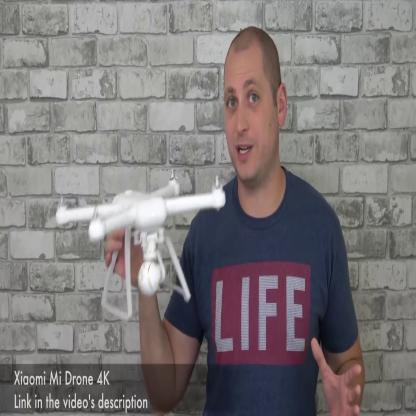drone: (48, 157, 232, 243)
